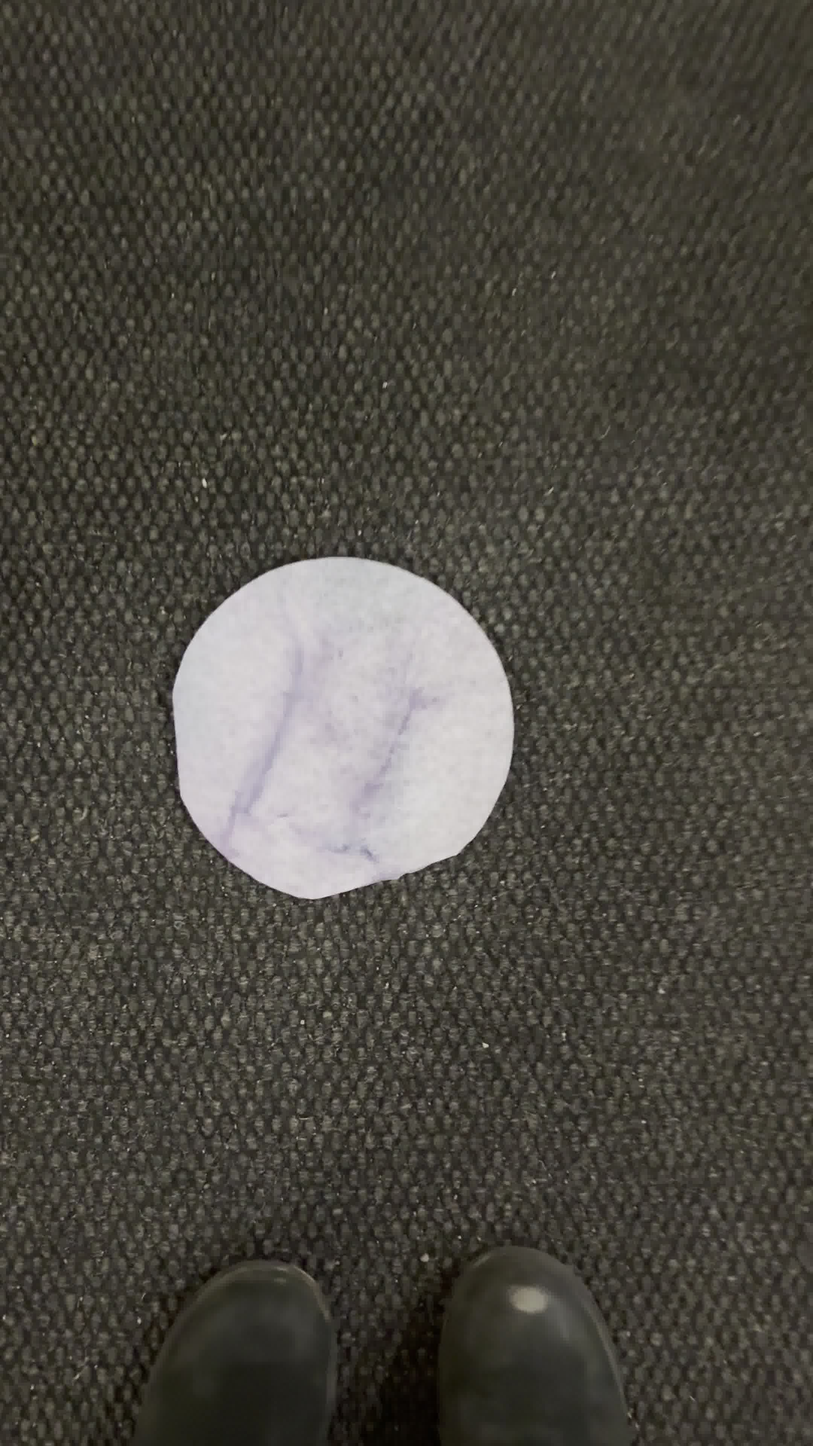Target: (168, 545, 511, 906)
